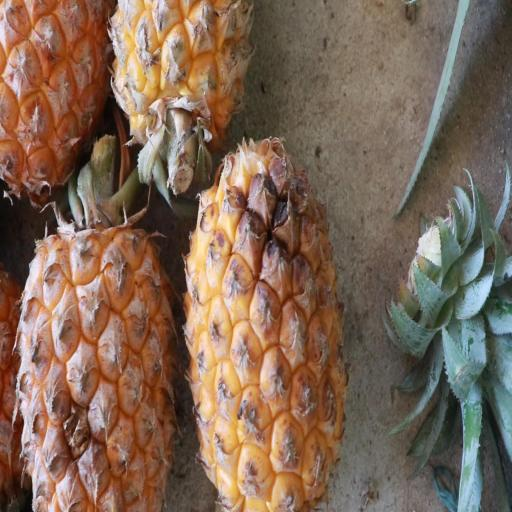Pineapple - v8 v1: (180, 127, 348, 512), (15, 189, 178, 512), (111, 0, 255, 162), (0, 0, 114, 201)
